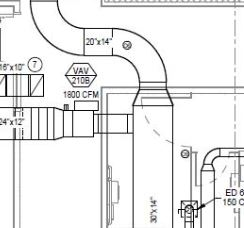VAV: (71, 98, 105, 144)
